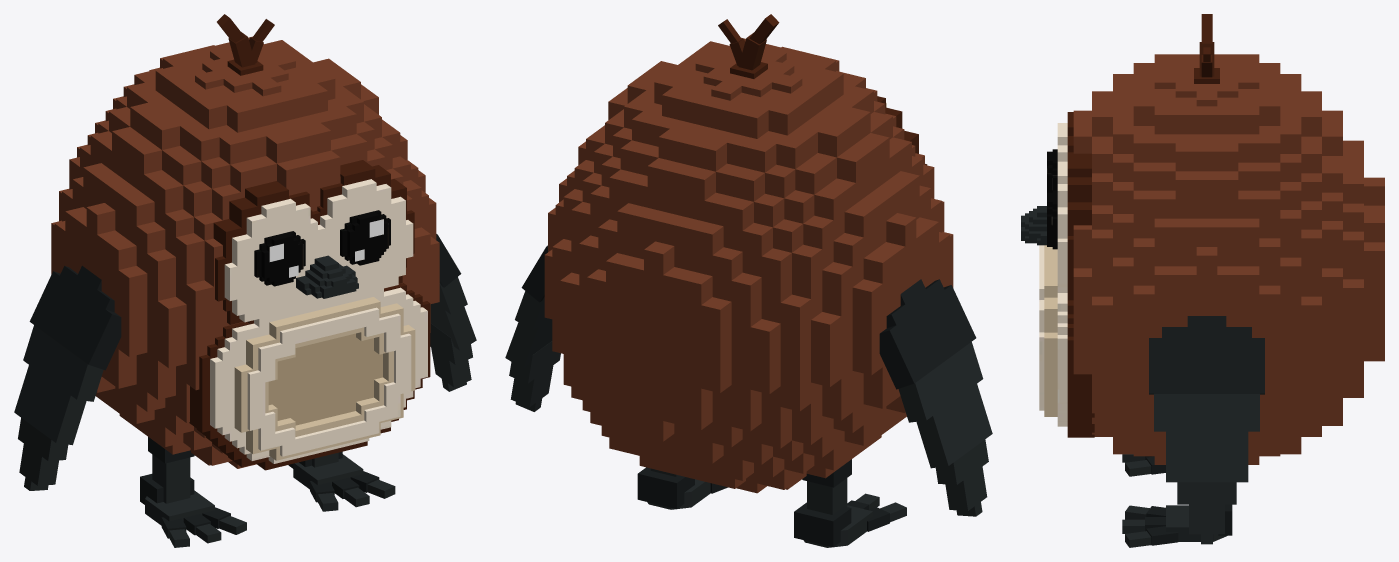
File: penguinoCocosin.fbx
3 views of the same model, side by side, from view 1: azimuth 30°, elevation 25°; view 2: azimuth 150°, elevation 25°; view 3: azimuth 270°, elevation 25° (orthographic). The views are drawn at different scales.
Visible parts, largest first — view 1: penguinoCocosini; view 2: penguinoCocosini; view 3: penguinoCocosini.
Boxes of the visible parts, x1=… form: penguinoCocosini: x1=14, y1=14, x2=476, y2=547; penguinoCocosini: x1=505, y1=14, x2=992, y2=547; penguinoCocosini: x1=1021, y1=14, x2=1384, y2=547.
Bounding box in the file's own units: 650 × 683 × 476.
